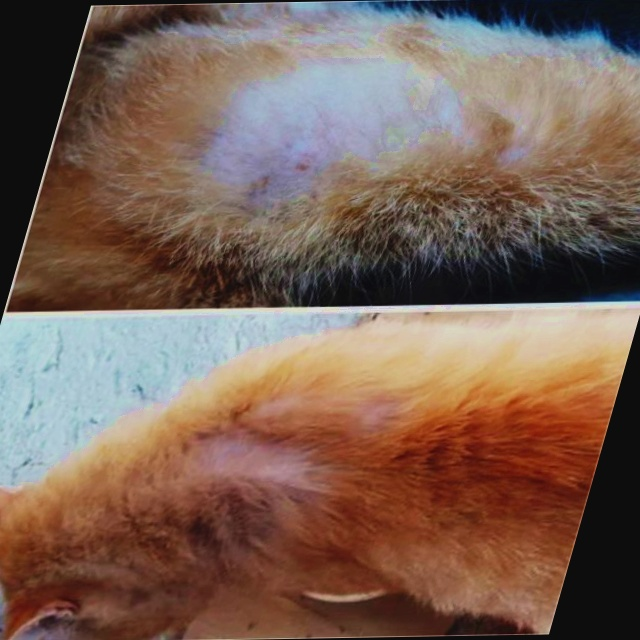hairloss: (210, 76, 464, 188), (195, 431, 315, 473), (260, 399, 406, 421)
